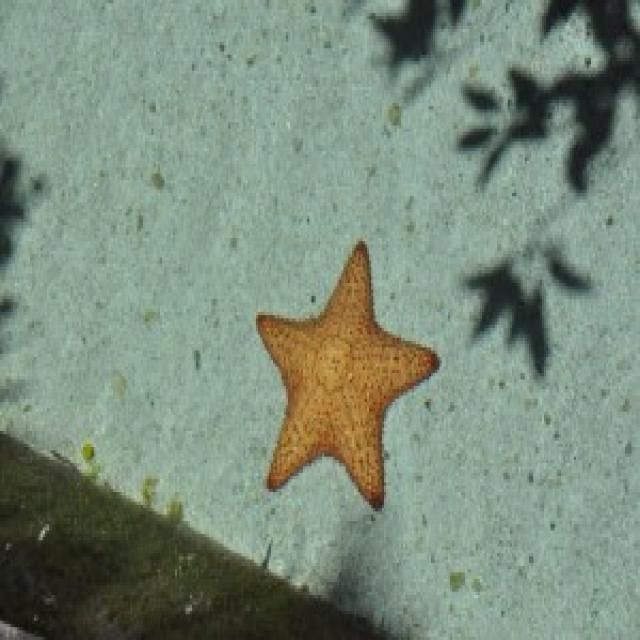Starfish: (252, 234, 450, 513)
